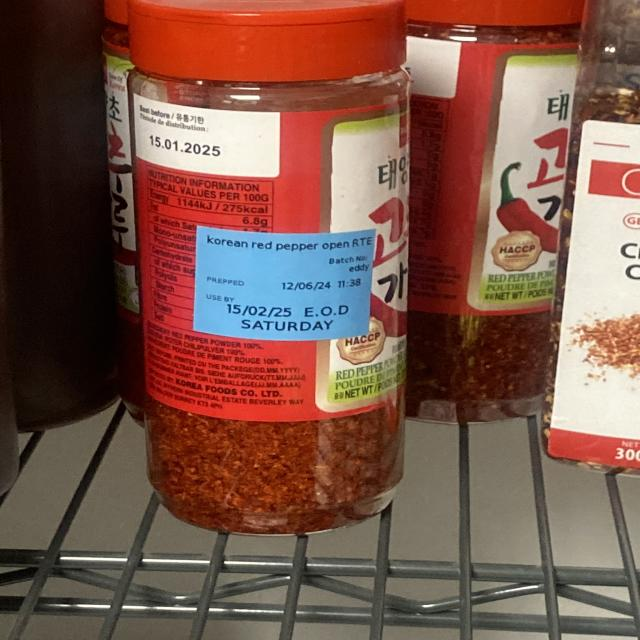product-labels: (196, 225, 377, 341)
